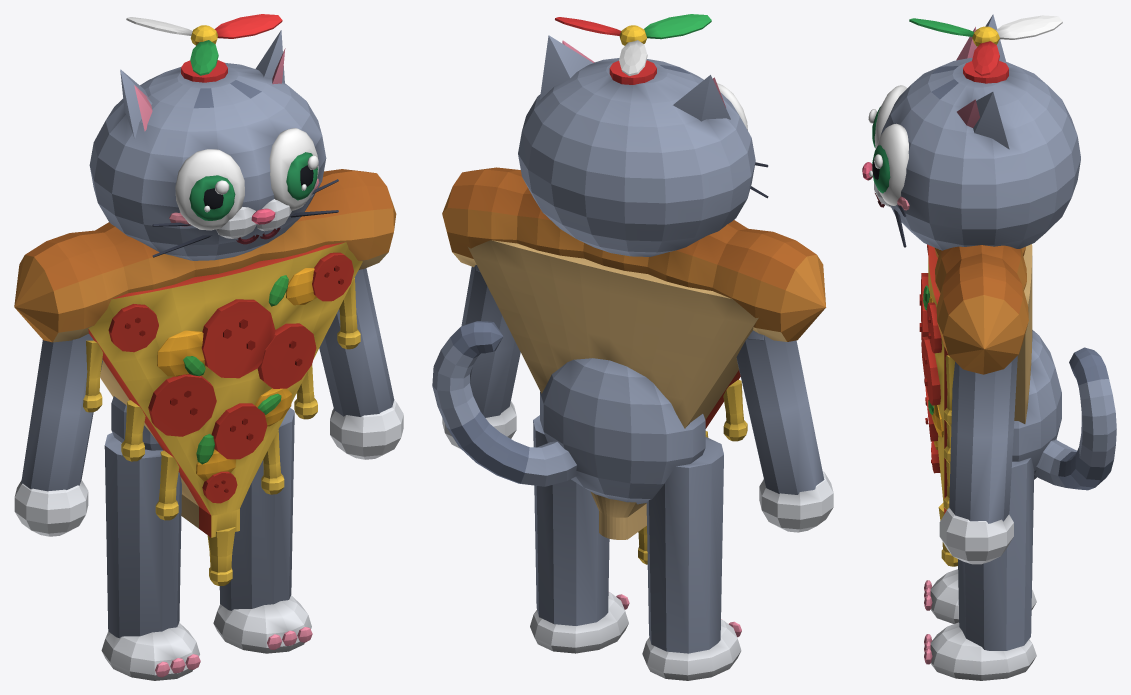
Rendered from skin_pizzagatto.glb.
3 renders of one model, left to right at view 1: azimuth 30°, elevation 25°; view 2: azimuth 150°, elevation 25°; view 3: azimuth 270°, elevation 25°, orthographic. The views are drawn at different scales.
Parts seen in each view (by area): view 1: Body, Head, LegL, LegR, ArmL, ArmR, EyeL, EyeR, Spin; view 2: Body, Head, LegL, LegR, ArmL, Tail, ArmR, Spin; view 3: Head, Body, LegR, ArmR, Tail, Spin, EyeR, LegL, EyeL.
Boxes of the visible parts, bbox=[...] form: Body: bbox=[14, 169, 396, 585]; Head: bbox=[89, 30, 338, 260]; LegL: bbox=[101, 432, 200, 680]; LegR: bbox=[213, 408, 312, 653]; ArmL: bbox=[14, 334, 102, 536]; ArmR: bbox=[319, 268, 403, 459]; EyeL: bbox=[175, 149, 244, 230]; EyeR: bbox=[269, 128, 318, 210]; Spin: bbox=[126, 14, 282, 75]; Body: bbox=[442, 167, 826, 564]; Head: bbox=[518, 35, 768, 256]; LegL: bbox=[642, 437, 741, 680]; LegR: bbox=[530, 415, 629, 653]; ArmL: bbox=[736, 330, 833, 532]; Tail: bbox=[432, 321, 577, 486]; ArmR: bbox=[442, 265, 520, 449]; Spin: bbox=[555, 14, 711, 75]; Head: bbox=[862, 14, 1080, 250]; Body: bbox=[919, 244, 1061, 566]; LegR: bbox=[924, 458, 1036, 680]; ArmR: bbox=[939, 355, 1017, 564]; Tail: bbox=[1034, 347, 1116, 490]; Spin: bbox=[909, 15, 1062, 76]; EyeR: bbox=[869, 123, 908, 205]; LegL: bbox=[924, 569, 1036, 623]; EyeL: bbox=[868, 85, 907, 149].
Size of the model in its own units: 3.76 by 5.8 by 2.2.
